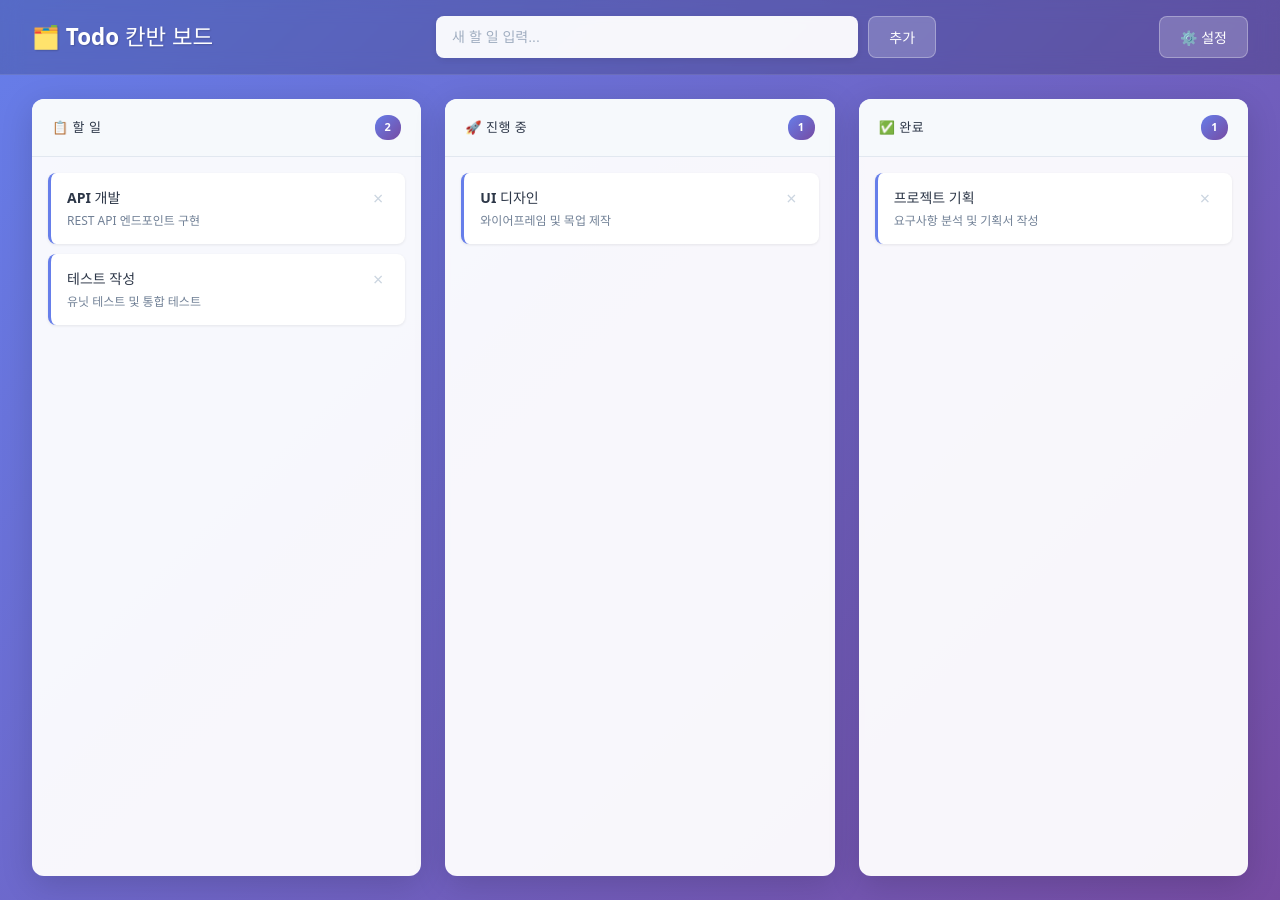
Test: Settings Feature › should open modal when settings button is clicked
Click the button "⚙️ 설정".
click(1204, 37)  # box [1159,16,1248,58]
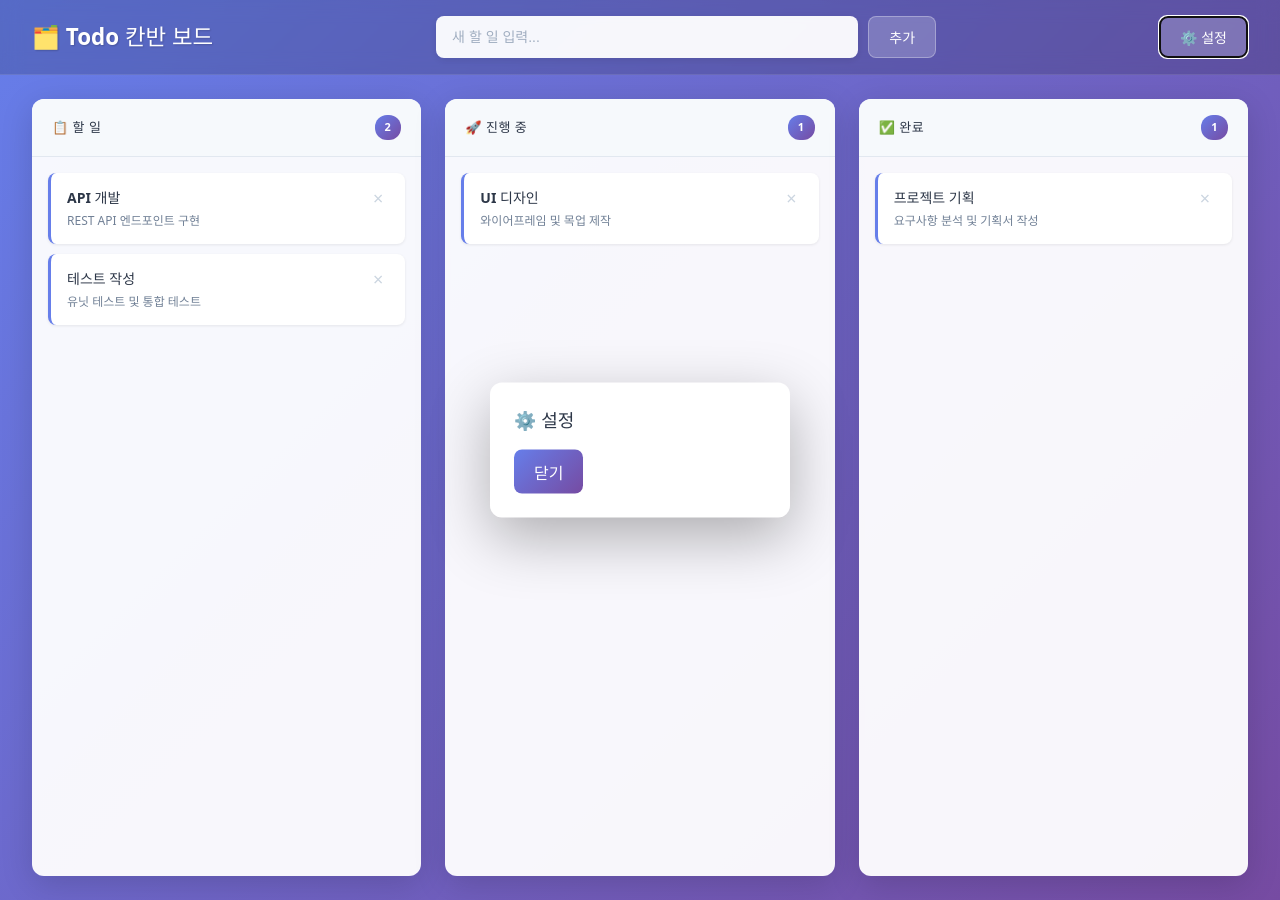
Check: the dialog is shown, box [490,382,790,518]
